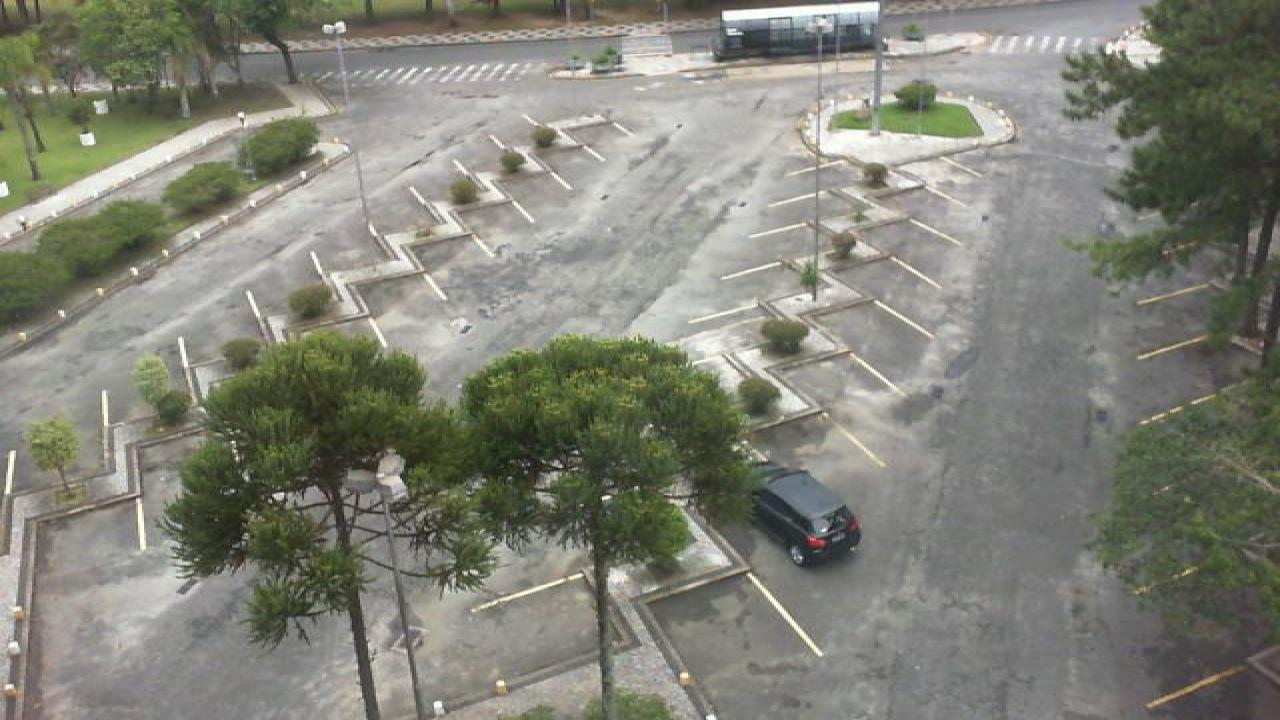Car: (738, 458, 862, 569)
